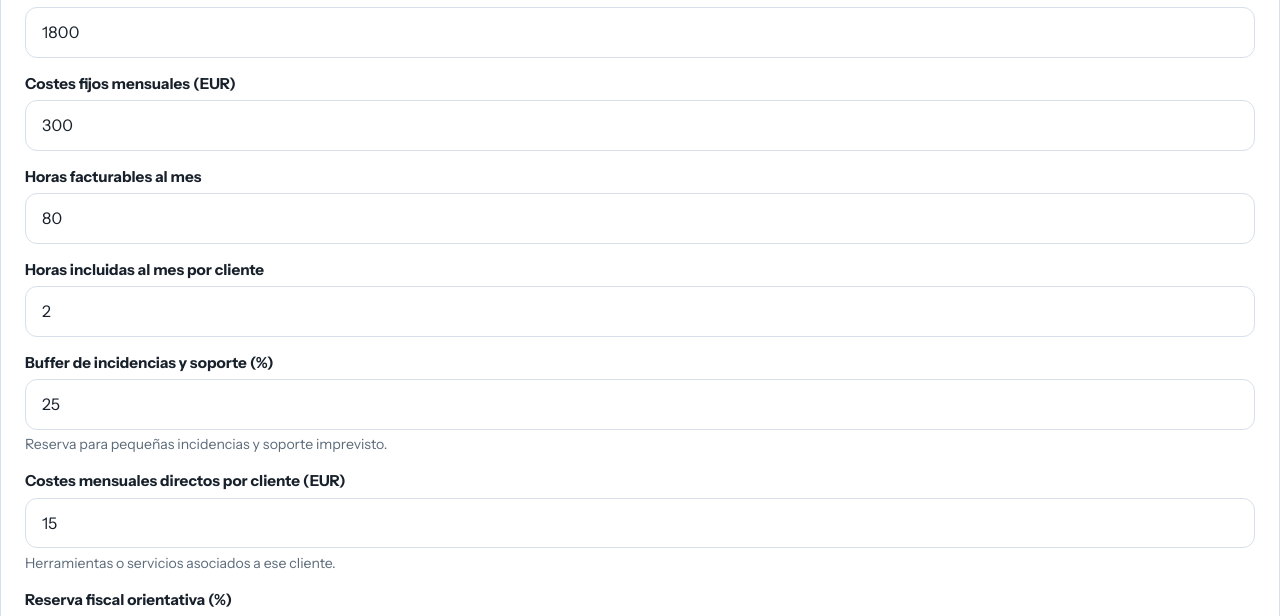
Test: CalculatorForm › warns when the needed client portfolio exceeds the available hours
Replace the text in the number field labelled "Horas facturables al mes" with "10" at x=640, y=218, box [25,193,1255,244]
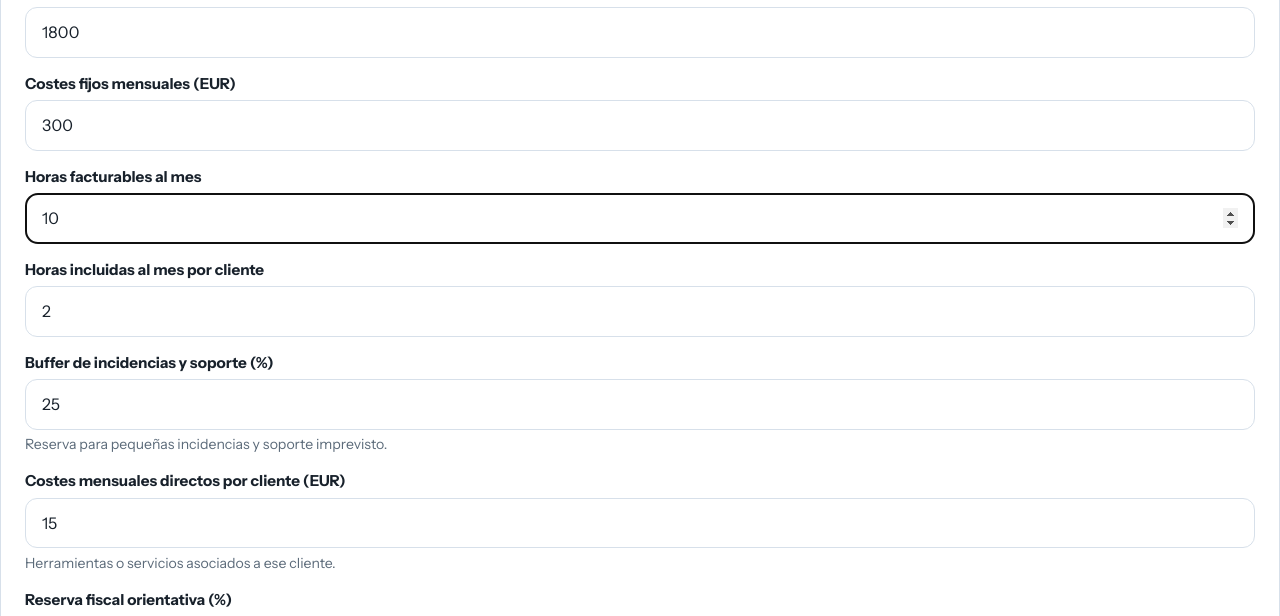
Replace the text in the number field labelled "Horas incluidas al mes por cliente" with "4" at x=640, y=311, box [25,286,1255,337]
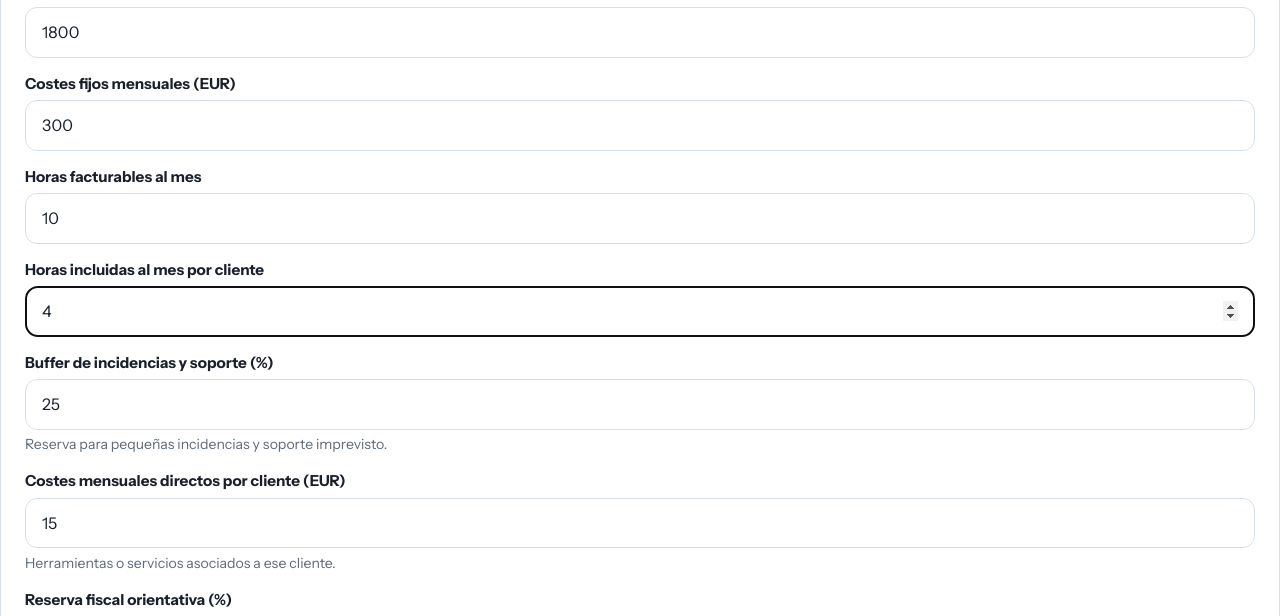
Replace the text in the number field labelled "Buffer de incidencias" with "50" at x=640, y=404, box [25,379,1255,430]
(page scrolled)
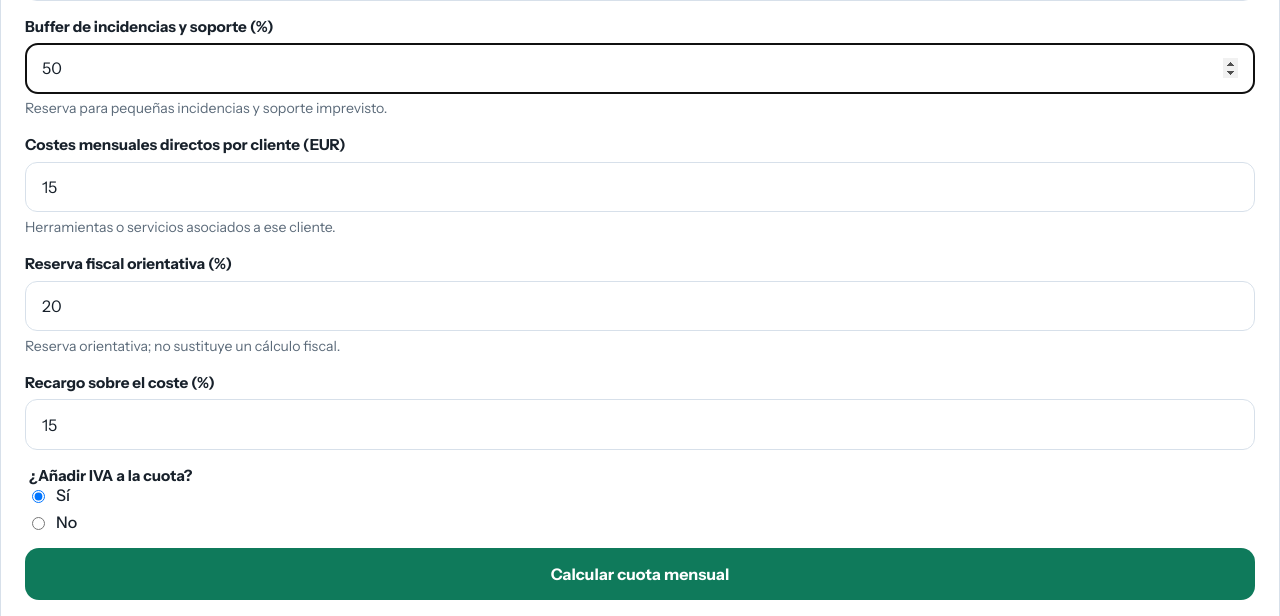
Click the button "Calcular cuota mensual" at x=640, y=574, box [25,548,1255,600]
(page scrolled)
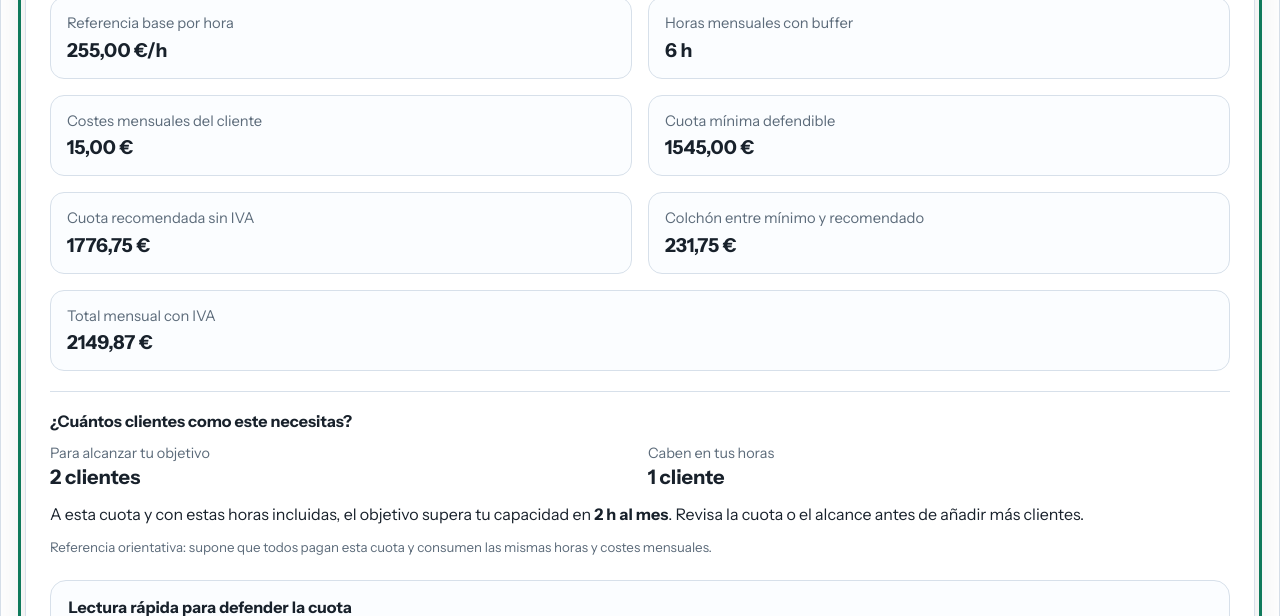
Expected: the element "Cuántos clientes como este necesitas" shows "2 clientes", [50,391,1230,558]
Expected: the element "Cuántos clientes como este necesitas" shows "1 cliente", [50,391,1230,558]
Expected: the element "Cuántos clientes como este necesitas" shows "supera tu capacidad en 2 h al mes", [50,391,1230,558]
